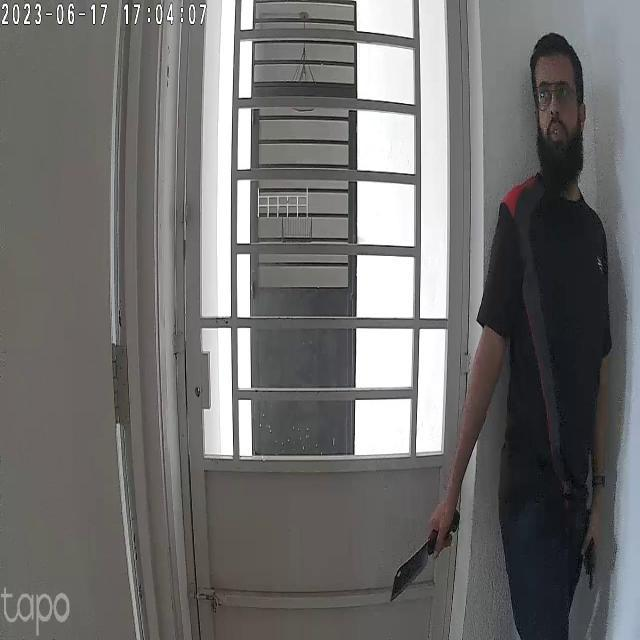Knife: (379, 507, 471, 611)
